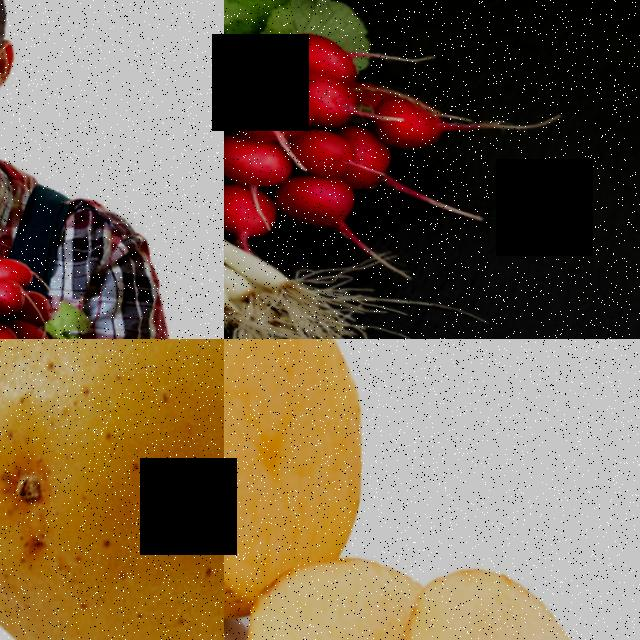potato: (0, 339, 224, 640), (224, 339, 348, 640), (334, 541, 640, 640)
radishes: (224, 0, 482, 291)
